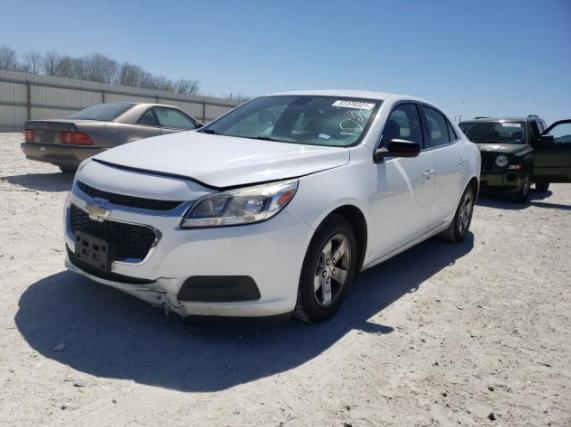Back-door: (418, 101, 468, 234)
Back-wheel: (435, 187, 475, 241)
Back-window: (423, 106, 457, 147)
Fender: (283, 143, 377, 268)
Front-bumper: (63, 159, 316, 319)
Front-door: (372, 100, 436, 262)
Front-wheel: (290, 215, 357, 323)
Front-window: (380, 104, 424, 148)
Grille: (70, 205, 155, 264)
Headlight: (178, 177, 297, 229), (73, 156, 92, 183)
Hood: (92, 131, 350, 189)
Mirror: (373, 138, 420, 164)
Quarter-panel: (461, 136, 481, 198)
Rocker-panel: (360, 221, 451, 273)
Roof: (262, 89, 448, 117)
Windshield: (196, 95, 384, 147)
